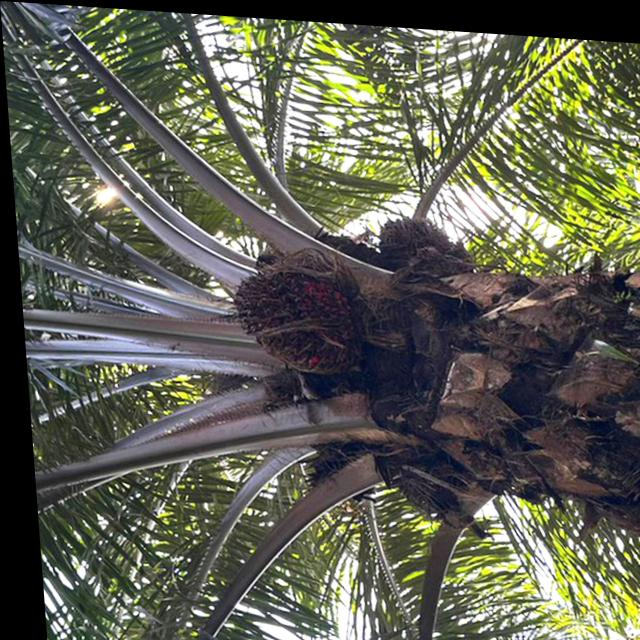ripe: (216, 243, 367, 383)
